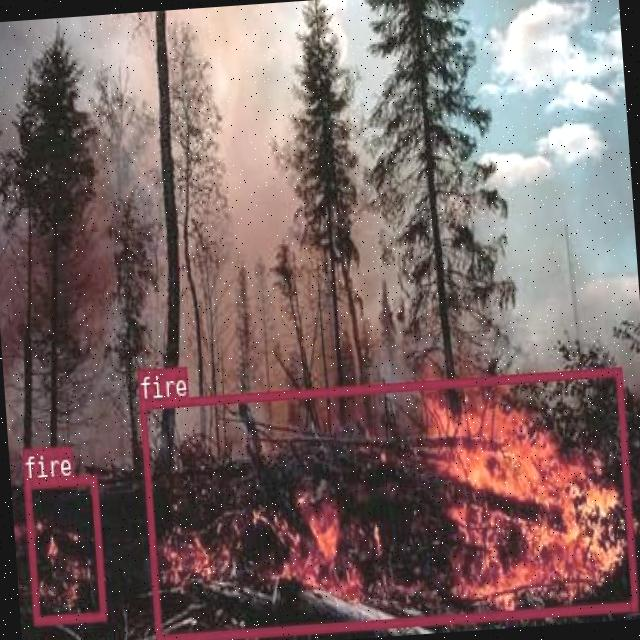fire: (138, 365, 636, 640), (22, 474, 106, 624)
